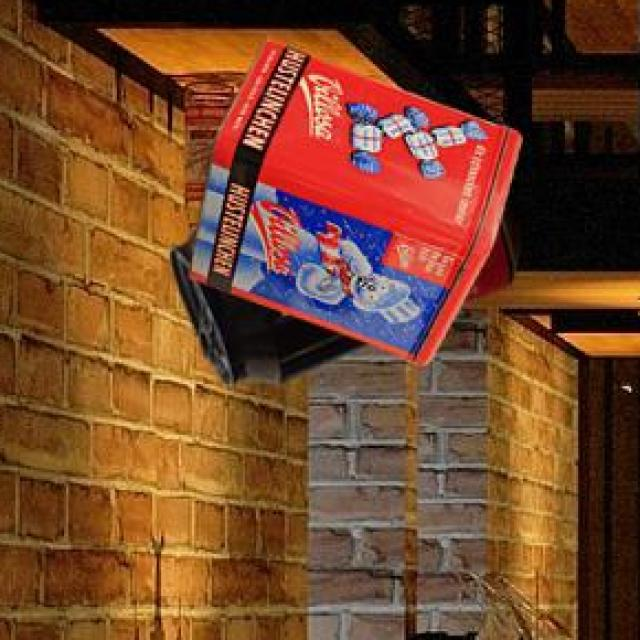logam: (193, 41, 524, 367), (175, 200, 524, 387)
